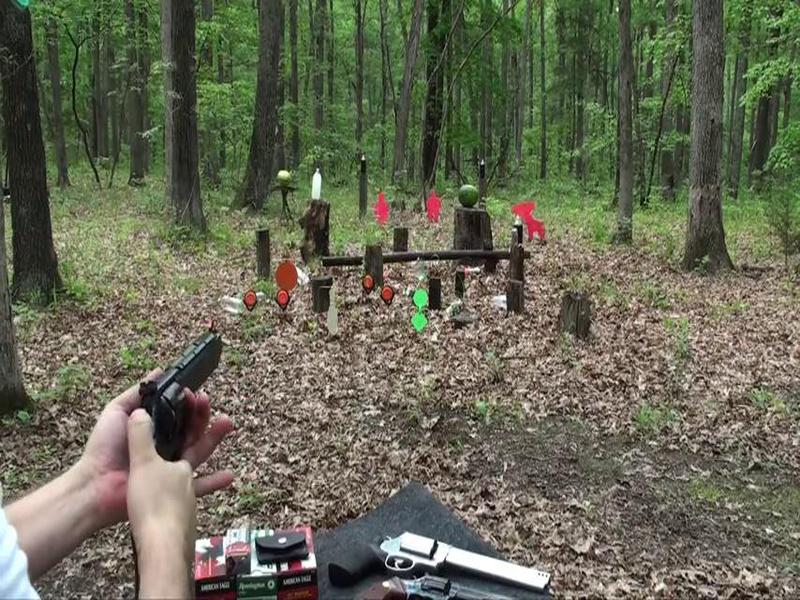Revolver: (113, 317, 241, 480)
